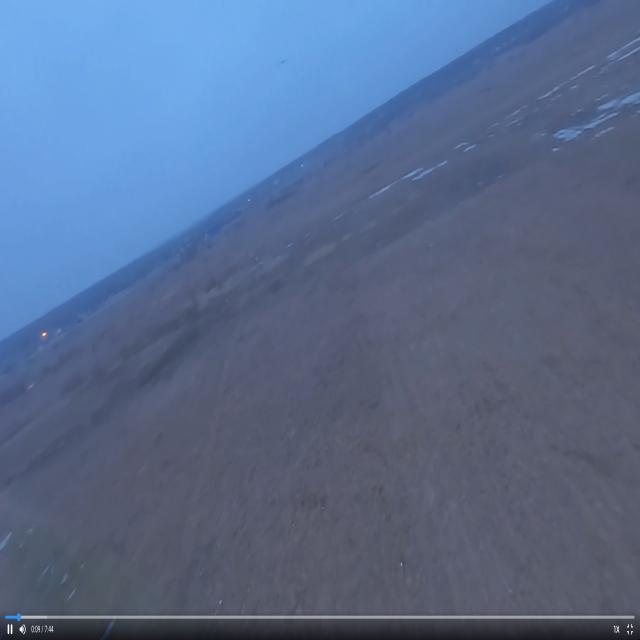planedrone: (278, 56, 286, 67)
